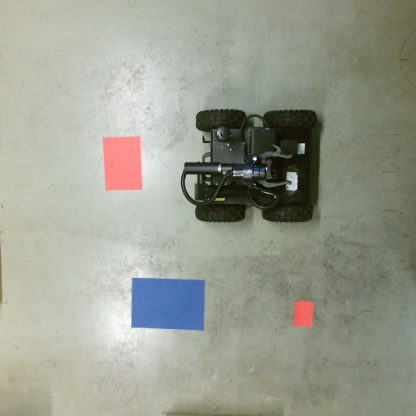Blue: (130, 276, 208, 333)
Jaguar: (177, 106, 316, 225)
Red: (100, 134, 145, 191), (292, 299, 314, 328)
